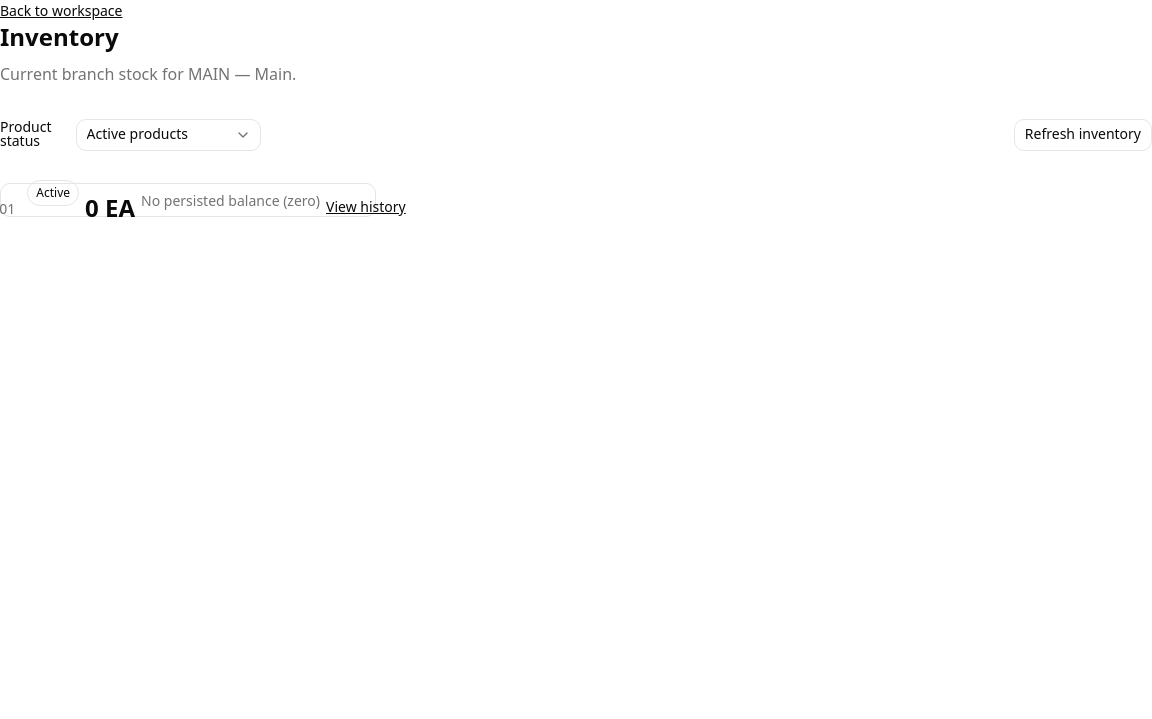
Test: inventory management UI › renders a purchase receipt movement without a manual-adjustment reason
The width and height of the screenshot is (1152, 719).
Click the button "Tea" at (188,200), box [0,183,376,217]
(page scrolled)
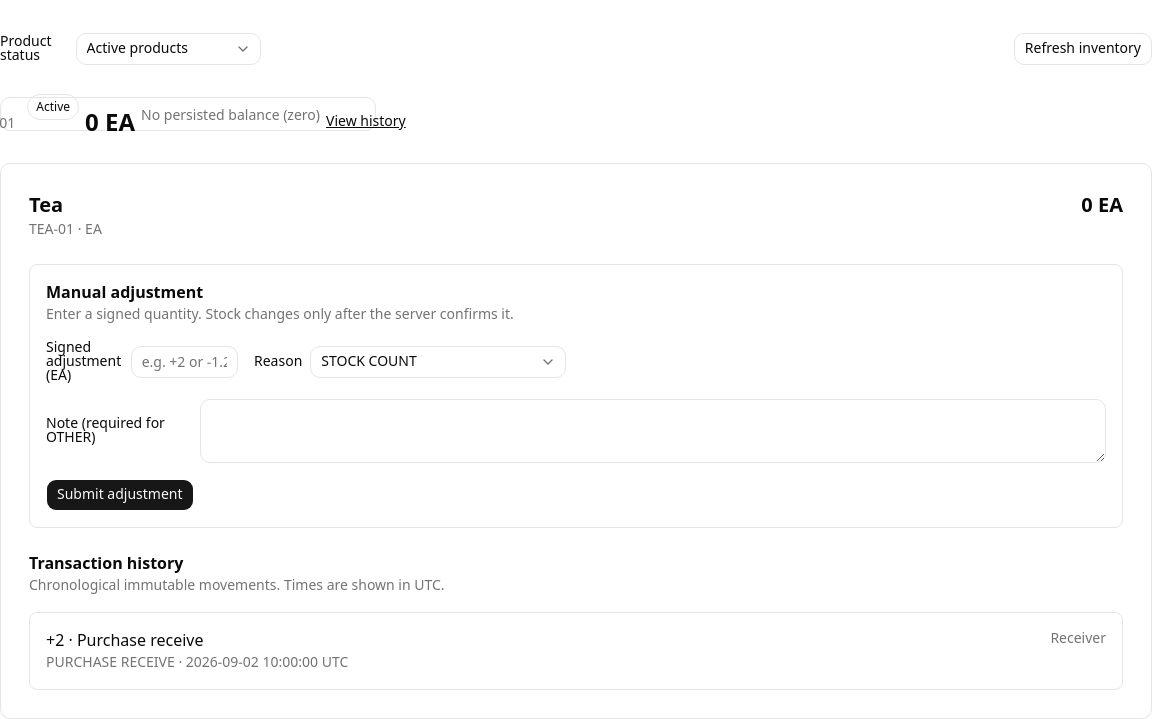
Check: the text "+2 · Purchase receive" is shown, box [46,629,204,653]
Check: the text "PURCHASE RECEIVE · 2026-09-02 10:00:00 UTC" is shown, box [46,653,348,673]
